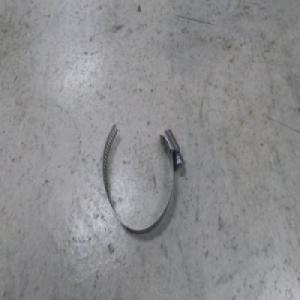AdjustableClamp: (104, 123, 185, 235)
